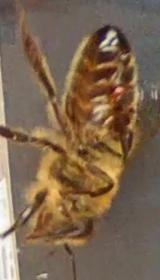varroa_mite: (102, 73, 136, 108)
